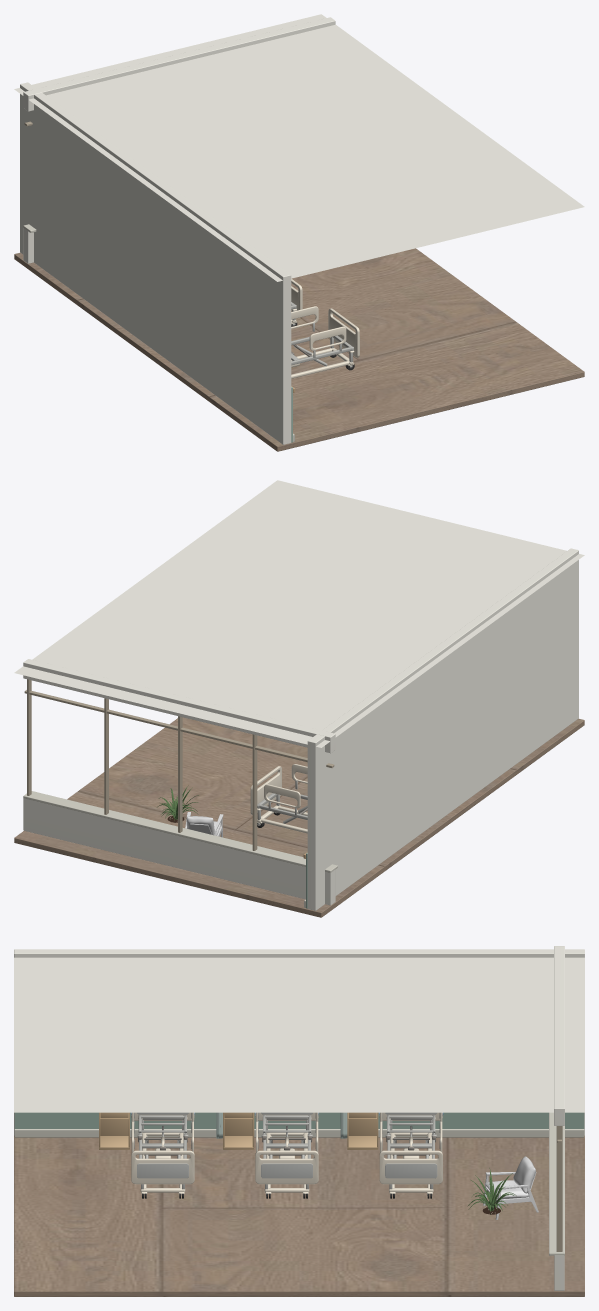
The model's file is clinical-ward.glb.
The picture shows the model from 3 angles, top to bottom: view 1: azimuth 30°, elevation 25°; view 2: azimuth 150°, elevation 25°; view 3: azimuth 270°, elevation 25°; orthographic projection. The views are drawn at different scales.
Parts seen in each view (by area): view 1: Ceiling underside, Headwall, Floor, Window fascia, footboard; view 2: Ceiling underside, Headwall, Floor, Window apron, Window fascia, Stone sill, Upper glazing transom, Glazing mullion.001, modern_arm_chair_01, Glazing mullion.003, Glazing mullion.002, Glazing mullion.004 (+1 smaller); view 3: Ceiling underside, Floor, Wall protection, Headwall, Skirting, Window fascia, Stone sill, modern_arm_chair_01, footboard.002, footboard, footboard.001, Glazing mullion.004 (+6 smaller).
Part boxes in pixels (x1,y1,x2,y2): Ceiling underside: (14, 14, 584, 281); Headwall: (20, 82, 291, 444); Floor: (14, 248, 584, 451); Window fascia: (23, 17, 335, 111); footboard: (328, 308, 359, 357); Ceiling underside: (14, 480, 584, 747); Headwall: (307, 548, 578, 910); Floor: (14, 717, 584, 917); Window apron: (23, 798, 335, 905); Window fascia: (23, 659, 335, 753); Stone sill: (23, 791, 337, 872); Upper glazing transom: (24, 690, 334, 767); Glazing mullion.001: (252, 734, 257, 850); modern_arm_chair_01: (185, 812, 223, 837); Glazing mullion.003: (104, 698, 108, 814); Glazing mullion.002: (178, 716, 182, 832); Glazing mullion.004: (27, 679, 31, 795); Ceiling underside: (14, 957, 584, 1112); Floor: (14, 1135, 584, 1296); Wall protection: (14, 1112, 584, 1128); Headwall: (14, 949, 584, 1135); Skirting: (14, 1129, 584, 1137); Window fascia: (554, 946, 564, 1125); Stone sill: (549, 1112, 564, 1255); modern_arm_chair_01: (483, 1156, 538, 1219); footboard.002: (379, 1150, 442, 1184); footboard: (131, 1150, 194, 1184); footboard.001: (255, 1150, 318, 1184); Glazing mullion.004: (556, 1126, 562, 1251).
Size of the model in its own units: 6.2 by 3.35 by 9.2.
62 materials, 1 textured.
